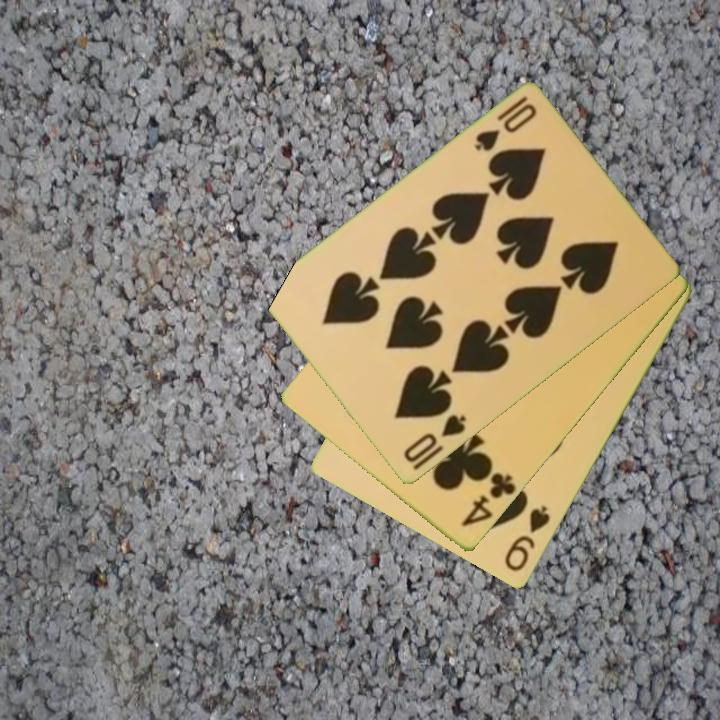10s: (400, 411, 470, 474), (470, 93, 540, 155)
4c: (457, 466, 519, 531)
9s: (501, 502, 554, 575)
